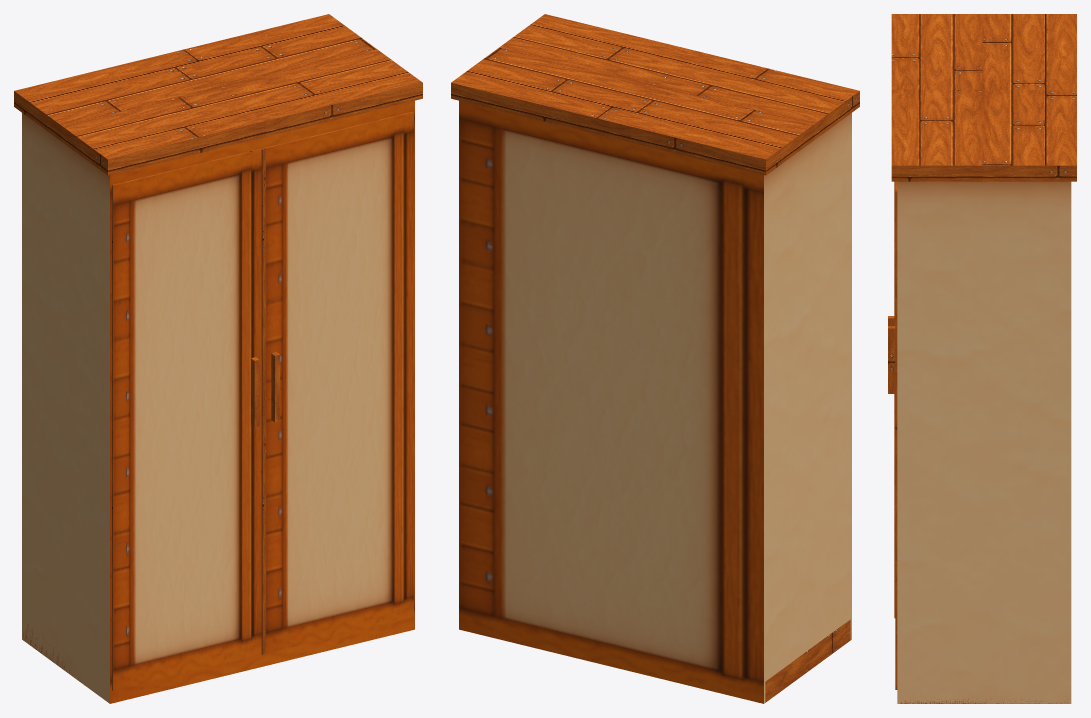
Rendered from Wardrobe.fbx.
The picture shows the model from 3 angles, left to right: view 1: azimuth 30°, elevation 25°; view 2: azimuth 150°, elevation 25°; view 3: azimuth 270°, elevation 25°; orthographic projection.
Parts seen in each view (by area): view 1: Wardrobe; view 2: Wardrobe; view 3: Wardrobe.
Boxes of the visible parts, x1,y1,x2,y2 form: Wardrobe: [14, 14, 422, 703]; Wardrobe: [451, 14, 859, 703]; Wardrobe: [888, 14, 1076, 703].
Bounding box in the file's own units: 1.24 × 2.06 × 0.6525.
